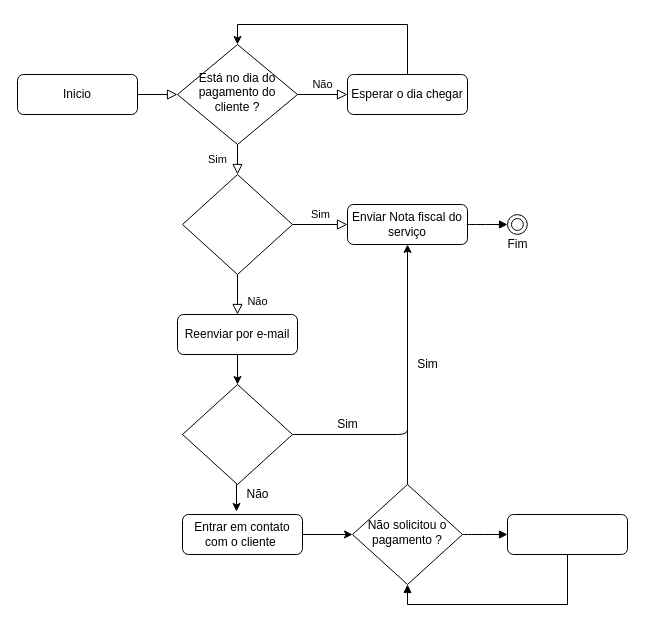
This 645x630 diagram has some shape labels left out. Here are the shapes that lost their labels. From the top down, the box of each, then its label:
(182, 174, 292, 274): O pagamento foi identificado ?
(182, 384, 292, 484): Solicitou o pagamento ?
(506, 514, 628, 554): Medidas de Inadimplência
